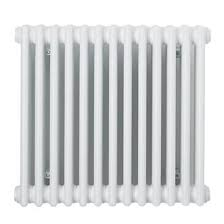Radiator: (14, 21, 212, 207)
